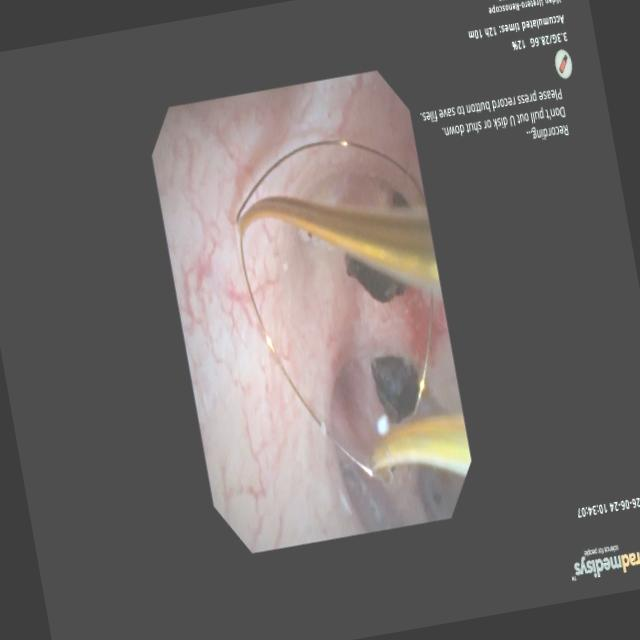stone-new: (371, 355, 419, 423), (345, 254, 407, 303), (391, 190, 407, 207)
